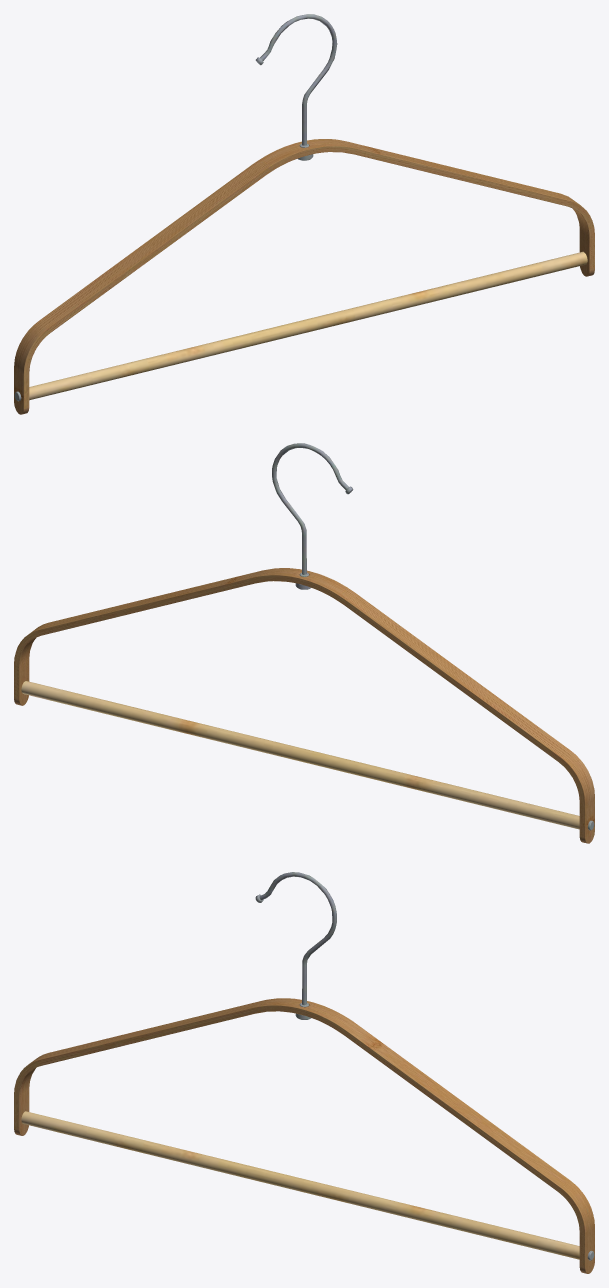
Rendered from hosvans_wieszak_00555801.glb.
3 renders of one model, top to bottom at view 1: azimuth 30°, elevation 25°; view 2: azimuth 150°, elevation 25°; view 3: azimuth 330°, elevation 25°, orthographic.
Visible parts, largest first — view 1: hosvans_wieszak_00555801; view 2: hosvans_wieszak_00555801; view 3: hosvans_wieszak_00555801.
Part boxes in pixels (<box>): hosvans_wieszak_00555801: <box>14,14,594,414</box>; hosvans_wieszak_00555801: <box>14,443,594,843</box>; hosvans_wieszak_00555801: <box>14,872,594,1273</box>.
Size of the model in its own units: 0.403 by 0.2207 by 0.0121.
Materials: 1 (1 with a texture image).
